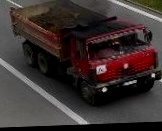truck: (9, 0, 162, 108)
